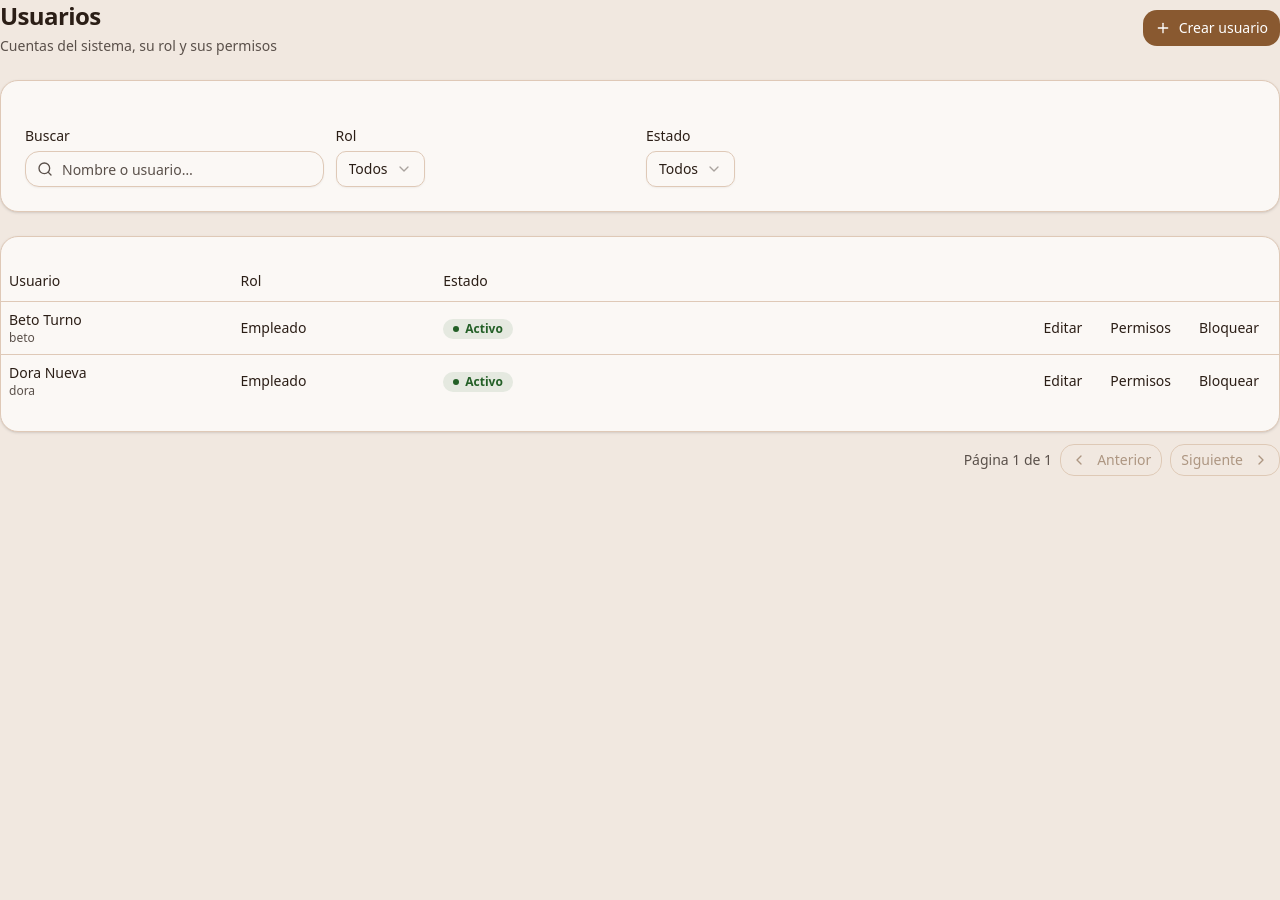
Test: Gestión de usuarios › el Gerente crea un Empleado en su sucursal sin elegir rol ni sucursal
This screenshot has width=1280, height=900.
Expected: the text "Beto Turno" is shown, [9,310,82,328]
Click the button "Crear usuario": (1211, 28) [1143,10,1279,46]
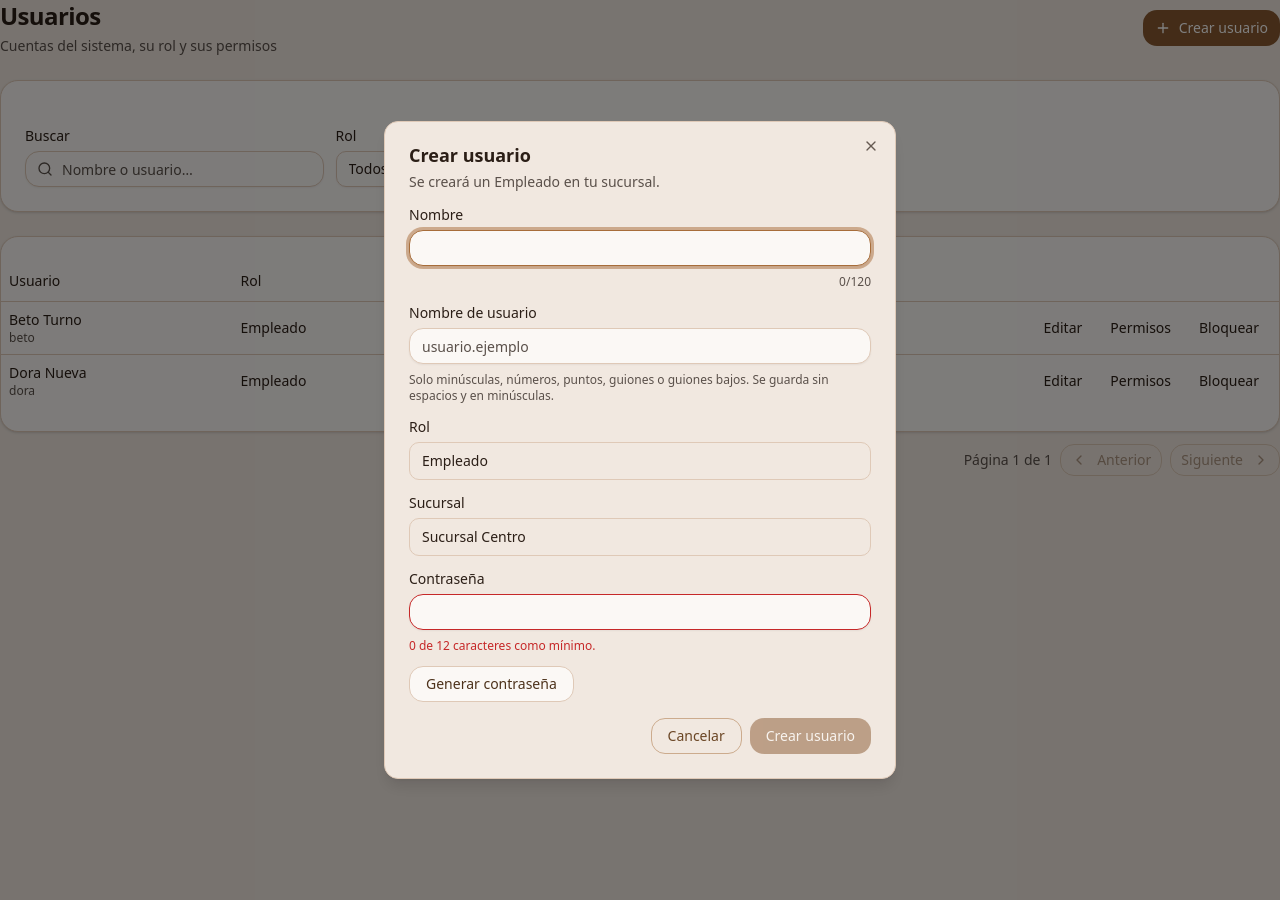
Expected: the text "Empleado" is shown, [409,442,871,480]
Expected: the text "Sucursal Centro" is shown, [409,518,871,556]
In the field labelled "Nombre": (640, 248) [409,230,871,266], type "Eric Nuevo"
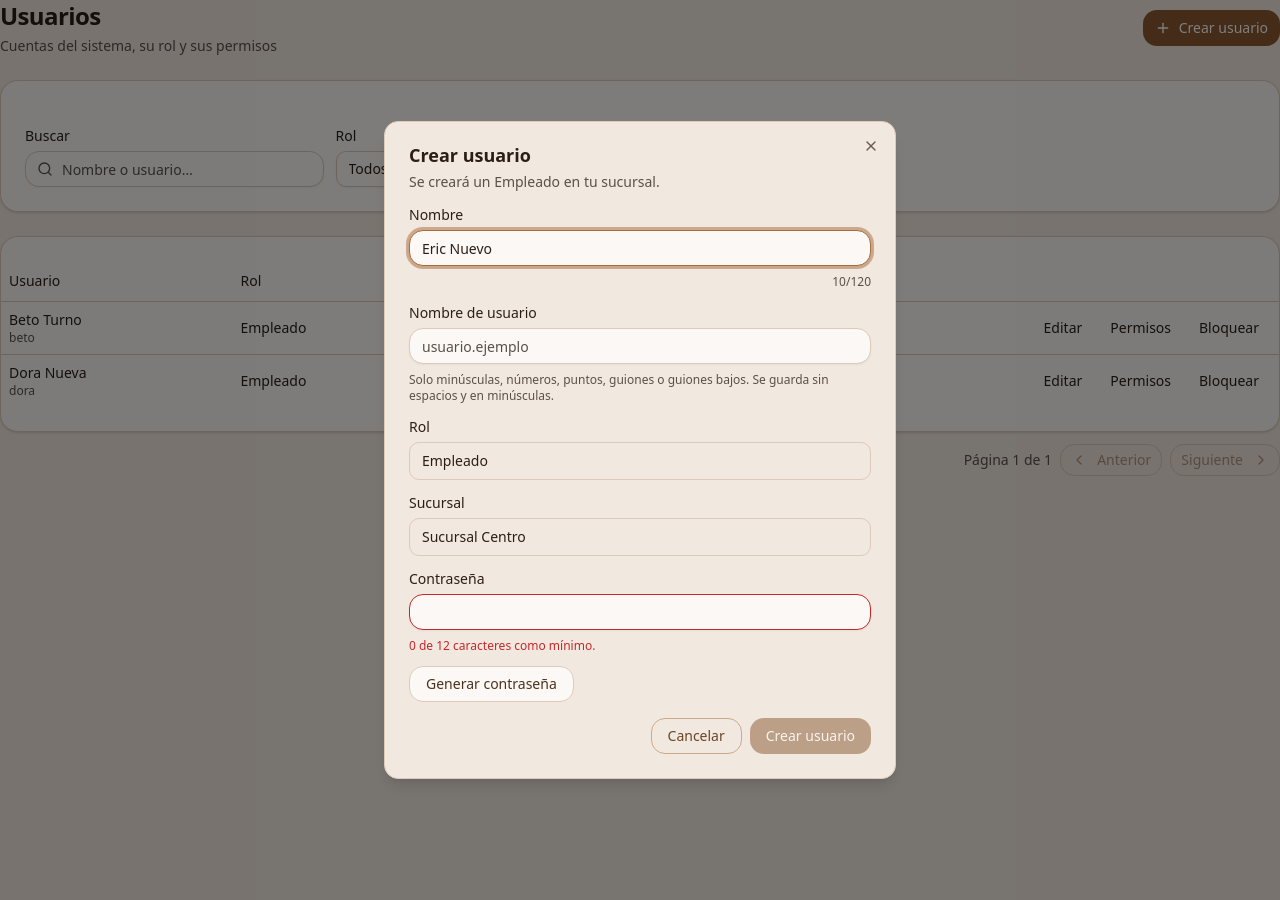
In the field labelled "Nombre de usuario": (640, 346) [409,328,871,364], type "eric"
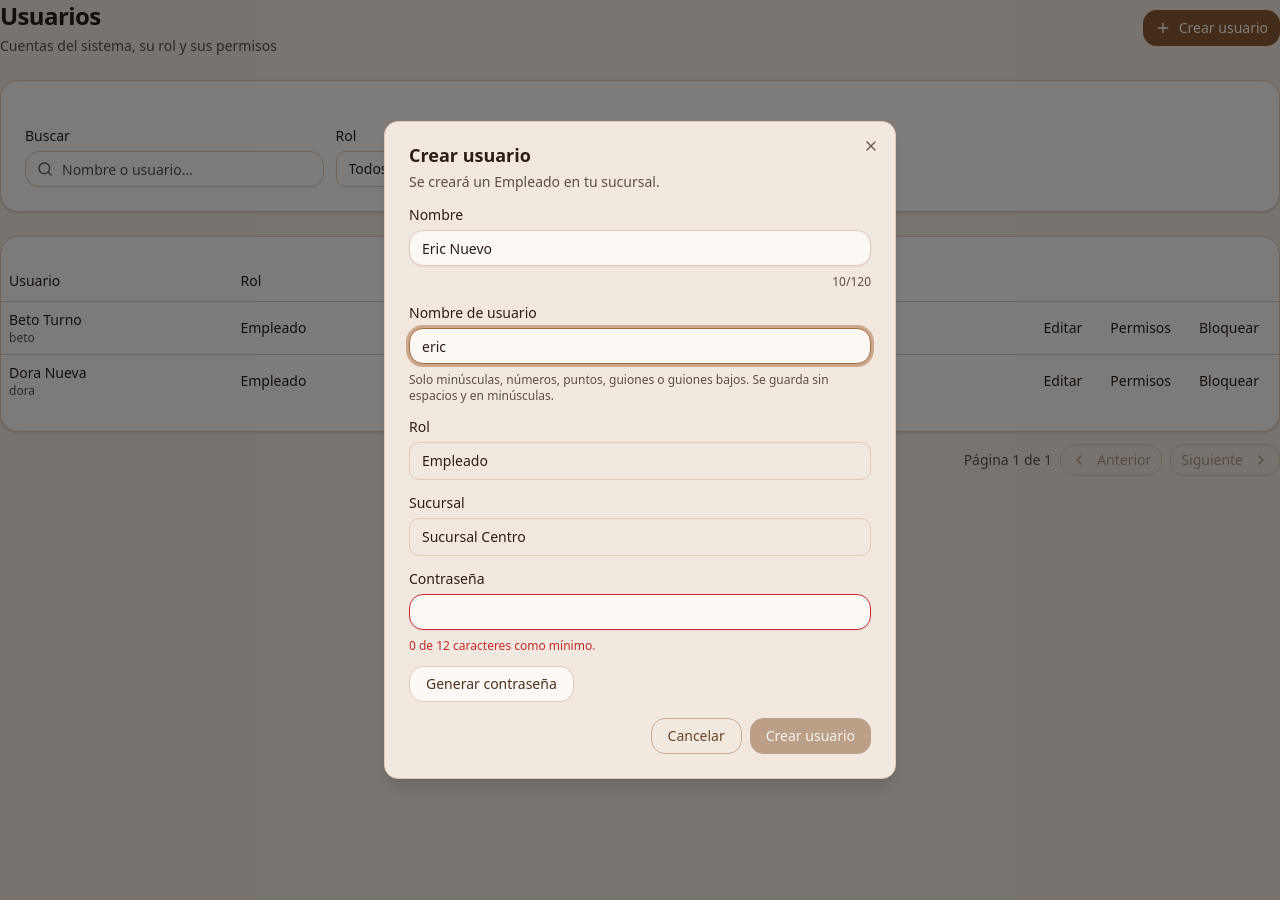
In the password field labelled "Contraseña": (640, 612) [409,594,871,630], type "ContrasenaLarga123!"
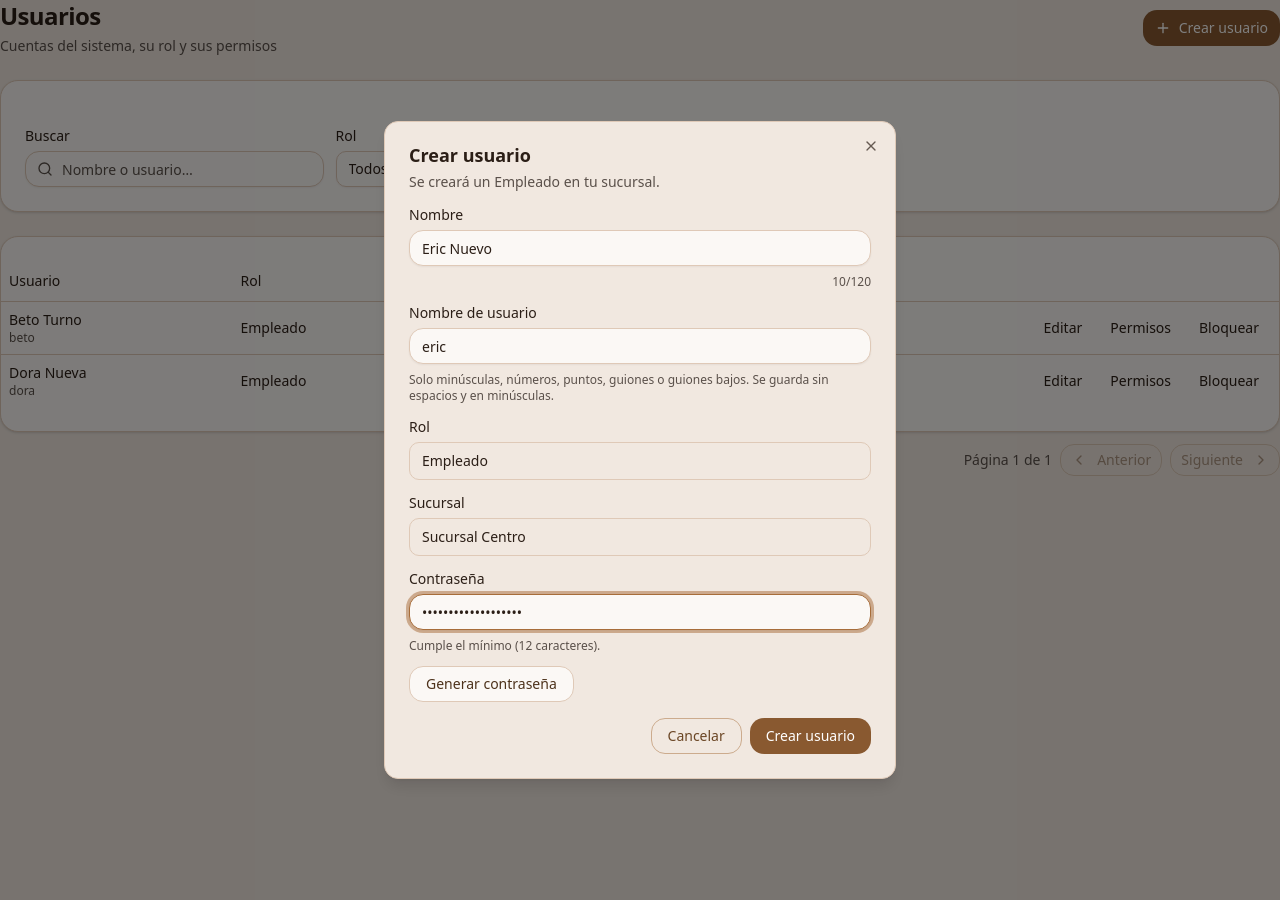
Click the button "Crear usuario": (810, 736) [750,718,871,754]
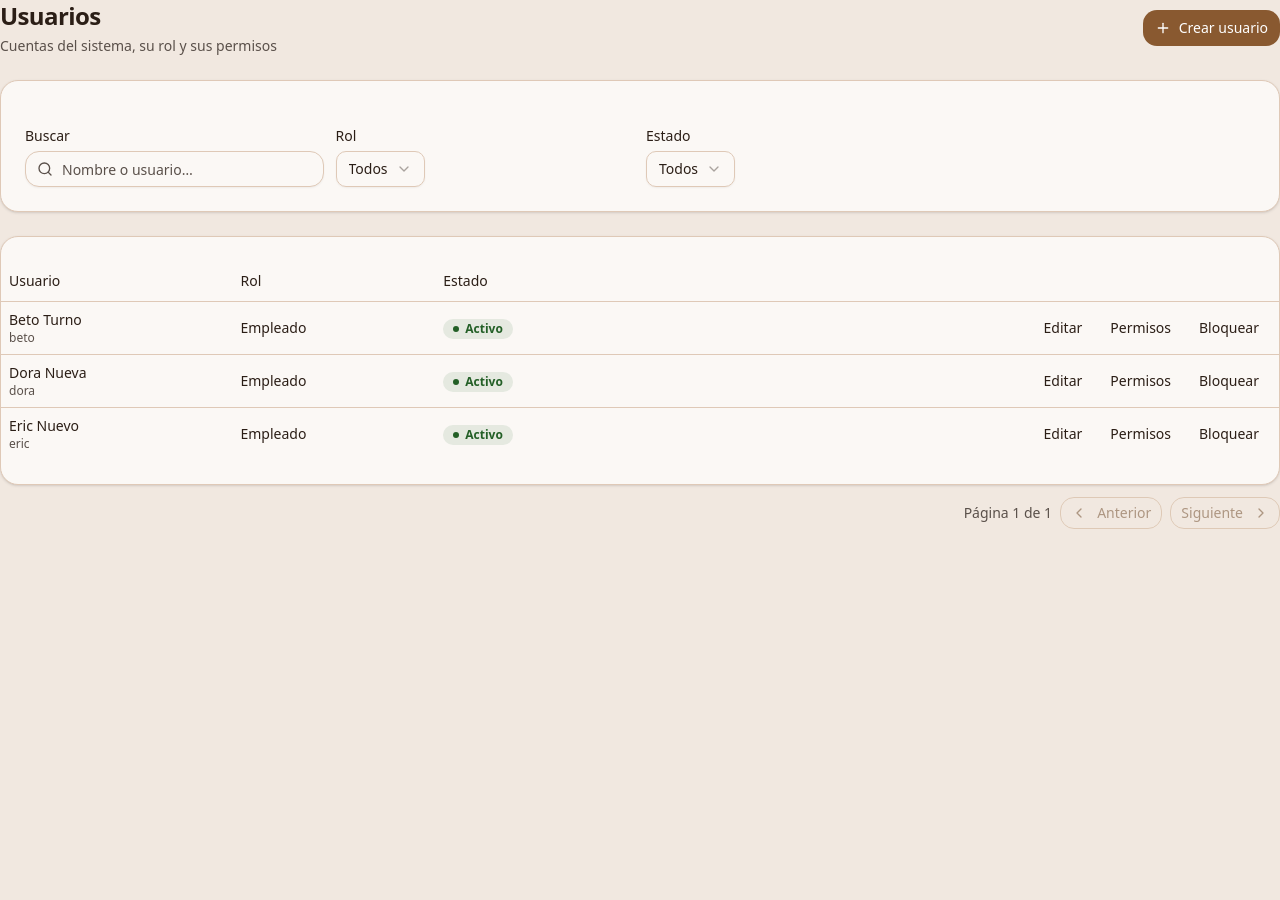
Expected: the text "Eric Nuevo" is shown, [9,416,79,434]
